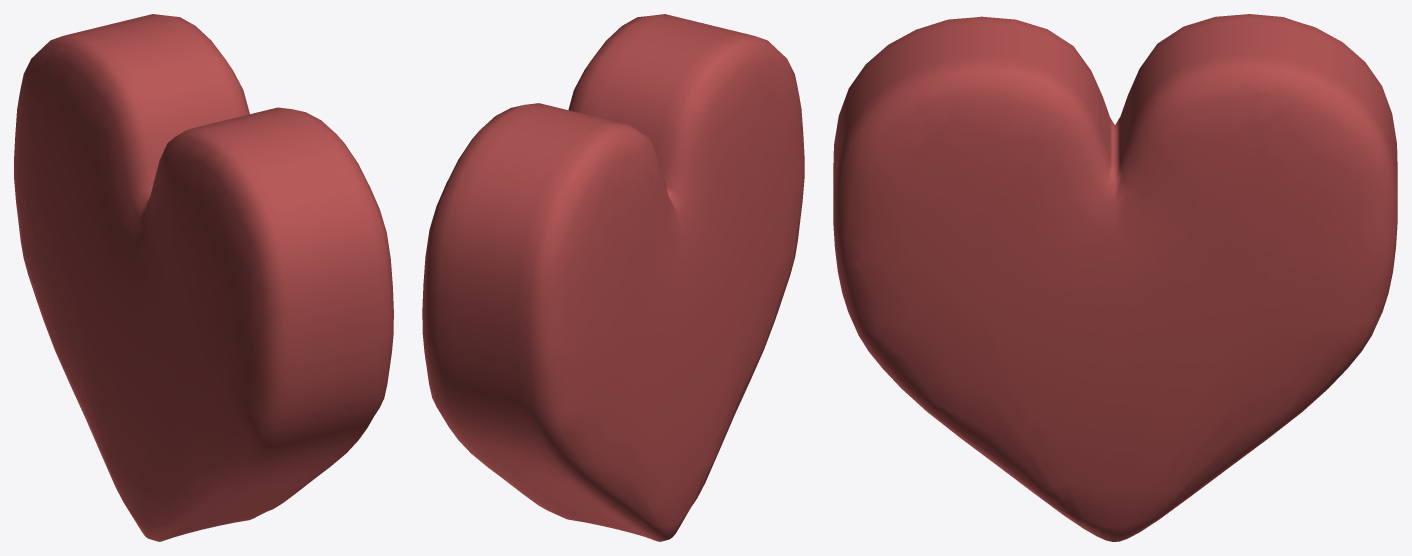
Rendered from M_HeartCollectible.fbx.
3 views of the same model, side by side, from view 1: azimuth 30°, elevation 25°; view 2: azimuth 150°, elevation 25°; view 3: azimuth 270°, elevation 25° (orthographic). The views are drawn at different scales.
Visible parts, largest first — view 1: pCube98; view 2: pCube98; view 3: pCube98.
Boxes of the visible parts, x1,y1,x2,y2 form: pCube98: (14,14,393,541); pCube98: (422,14,804,541); pCube98: (833,14,1397,541).
Size of the model in its own units: 0.1225 by 0.3392 by 0.3613.
